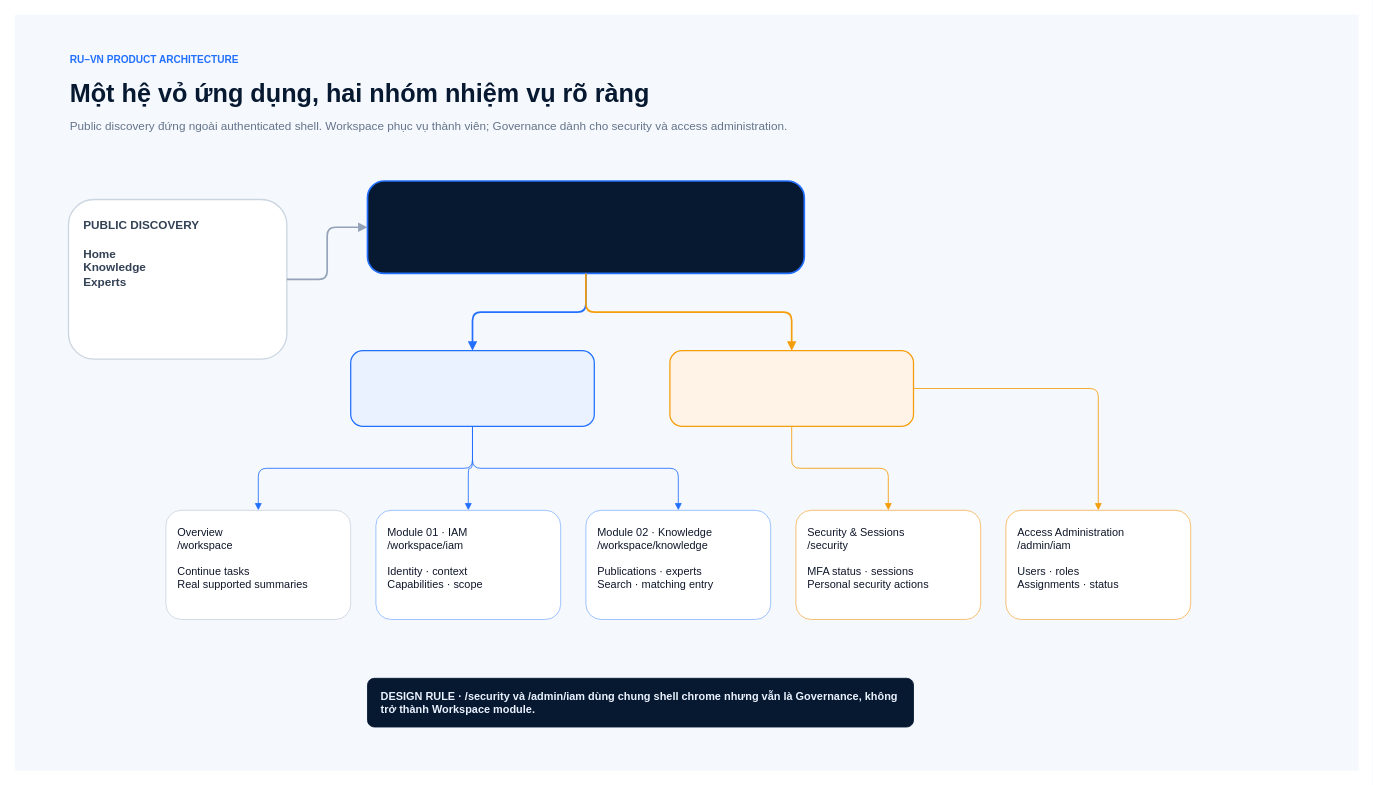
The diagram is 1373 pixels wide and 785 high, and some of its shapes have lost their labels. Here are the shapes that lost their labels. From the top down, the box of each, then its label:
(366, 180, 805, 274): AUTHENTICATED APP SHELL Navigation · search · language · identity · context
(350, 350, 595, 427): WORKSPACE Member-facing tasks
(669, 350, 914, 427): GOVERNANCE Operator & security tasks
